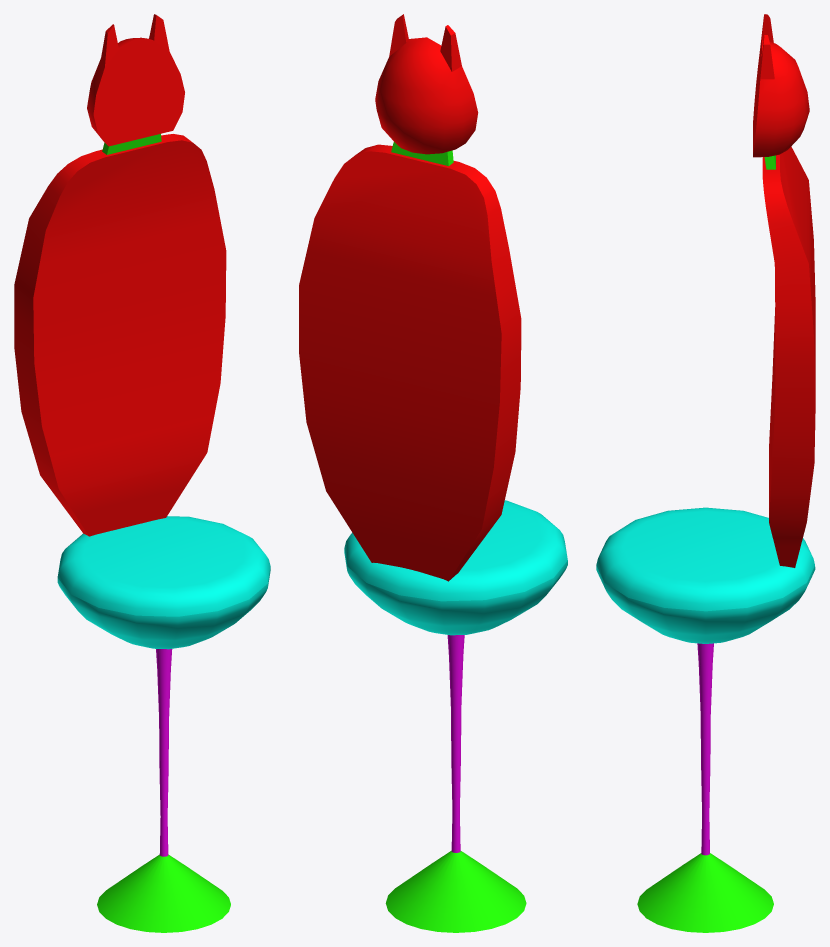
The model's file is umgebung_jimmy_stuhl_low.FBX.
3 renders of one model, left to right at view 1: azimuth 30°, elevation 25°; view 2: azimuth 150°, elevation 25°; view 3: azimuth 270°, elevation 25°, orthographic. The views are drawn at different scales.
Visible parts, largest first — view 1: o_jimmy_ruecken_low, o_jimmy_sitzflaesche_low, o_jimmy_kopfstueck_low, o_jimmy_stuhlstuetze_low, o_jimmy_stuhlbein_low; view 2: o_jimmy_ruecken_low, o_jimmy_sitzflaesche_low, o_jimmy_kopfstueck_low, o_jimmy_stuhlstuetze_low, o_jimmy_stuhlbein_low; view 3: o_jimmy_sitzflaesche_low, o_jimmy_ruecken_low, o_jimmy_stuhlstuetze_low, o_jimmy_kopfstueck_low, o_jimmy_stuhlbein_low.
Boxes of the visible parts, x1,y1,x2,y2 form: o_jimmy_ruecken_low: [14, 134, 226, 536]; o_jimmy_sitzflaesche_low: [57, 516, 270, 649]; o_jimmy_kopfstueck_low: [87, 14, 184, 146]; o_jimmy_stuhlstuetze_low: [97, 854, 230, 932]; o_jimmy_stuhlbein_low: [156, 649, 172, 856]; o_jimmy_ruecken_low: [299, 144, 521, 581]; o_jimmy_sitzflaesche_low: [344, 500, 567, 635]; o_jimmy_kopfstueck_low: [375, 14, 478, 154]; o_jimmy_stuhlstuetze_low: [385, 850, 526, 932]; o_jimmy_stuhlbein_low: [447, 635, 464, 852]; o_jimmy_sitzflaesche_low: [596, 507, 815, 643]; o_jimmy_ruecken_low: [762, 146, 815, 567]; o_jimmy_stuhlstuetze_low: [637, 853, 773, 932]; o_jimmy_kopfstueck_low: [753, 14, 809, 157]; o_jimmy_stuhlbein_low: [697, 643, 713, 855].
Size of the model in its own units: 83.66 by 80.87 by 358.
